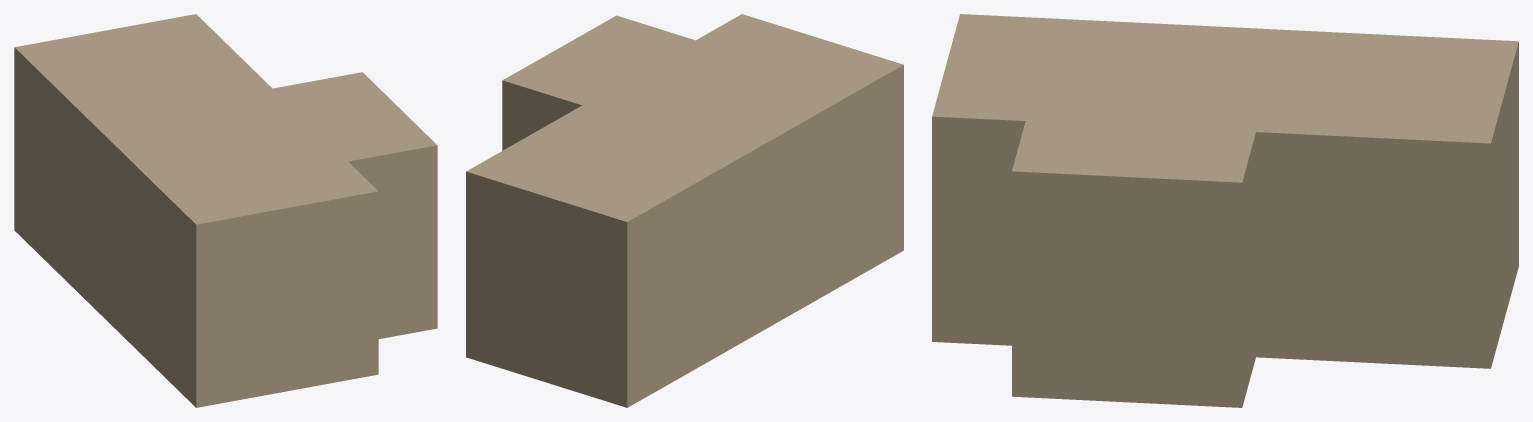
File: bld_108400860.dae
3 renders of one model, left to right at view 1: azimuth 30°, elevation 25°; view 2: azimuth 150°, elevation 25°; view 3: azimuth 270°, elevation 25°, orthographic. The views are drawn at different scales.
Visible parts, largest first — view 1: bld_108400860; view 2: bld_108400860; view 3: bld_108400860.
Boxes of the visible parts, box(x1,y1,x2,y2) form: bld_108400860: box(14, 14, 437, 407); bld_108400860: box(466, 14, 903, 407); bld_108400860: box(932, 14, 1518, 407).
Bounding box in the file's own units: 12.84 × 18.88 × 8.
